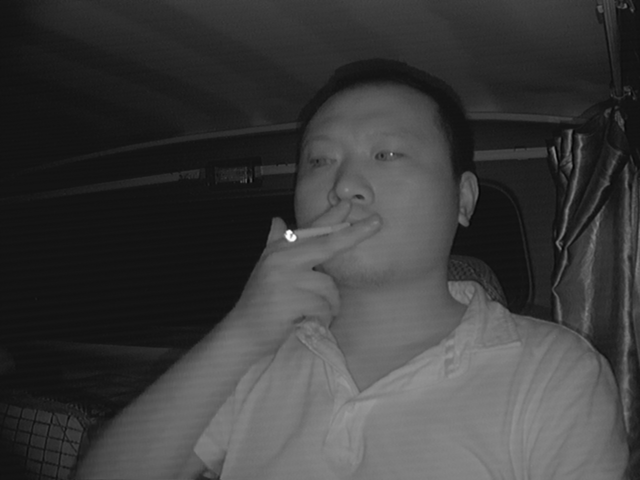hand: (276, 202, 383, 331)
